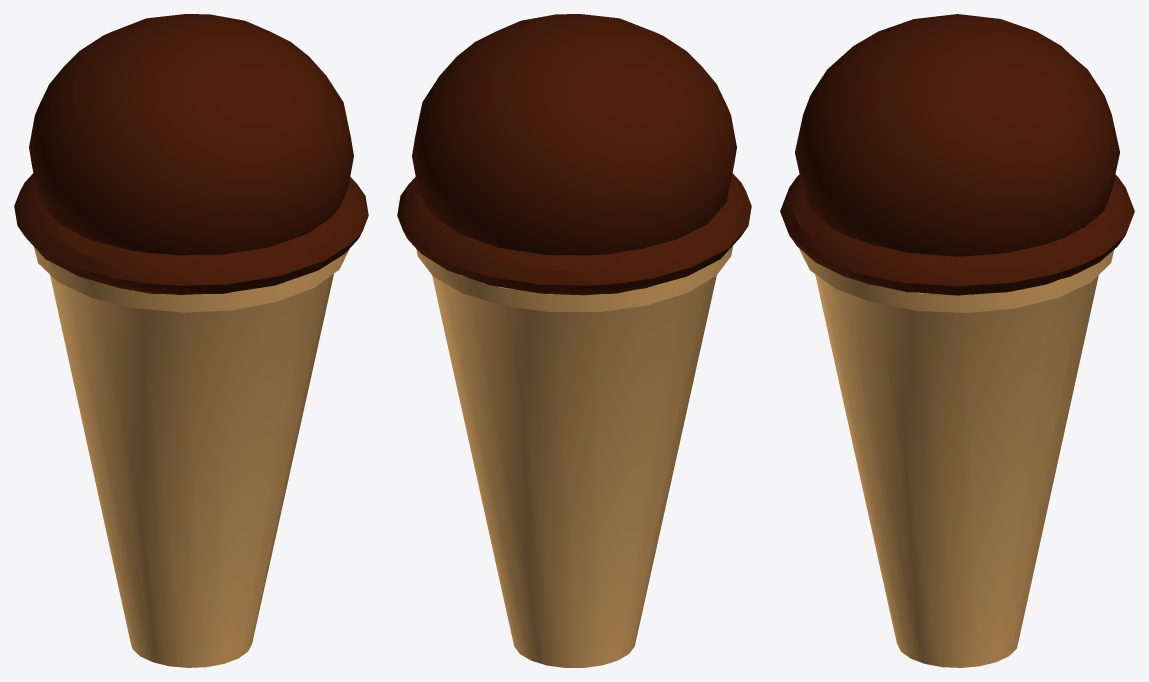
Rendered from Ice_cream.fbx.
3 renders of one model, left to right at view 1: azimuth 30°, elevation 25°; view 2: azimuth 150°, elevation 25°; view 3: azimuth 270°, elevation 25°, orthographic.
Visible parts, largest first — view 1: Ice_cream; view 2: Ice_cream; view 3: Ice_cream.
Part boxes in pixels (left/top/right/bottom): Ice_cream: left=14, top=14, right=368, bottom=667; Ice_cream: left=397, top=14, right=751, bottom=667; Ice_cream: left=780, top=14, right=1134, bottom=667.
Bounding box in the file's own units: 1219 × 2313 × 1219.
